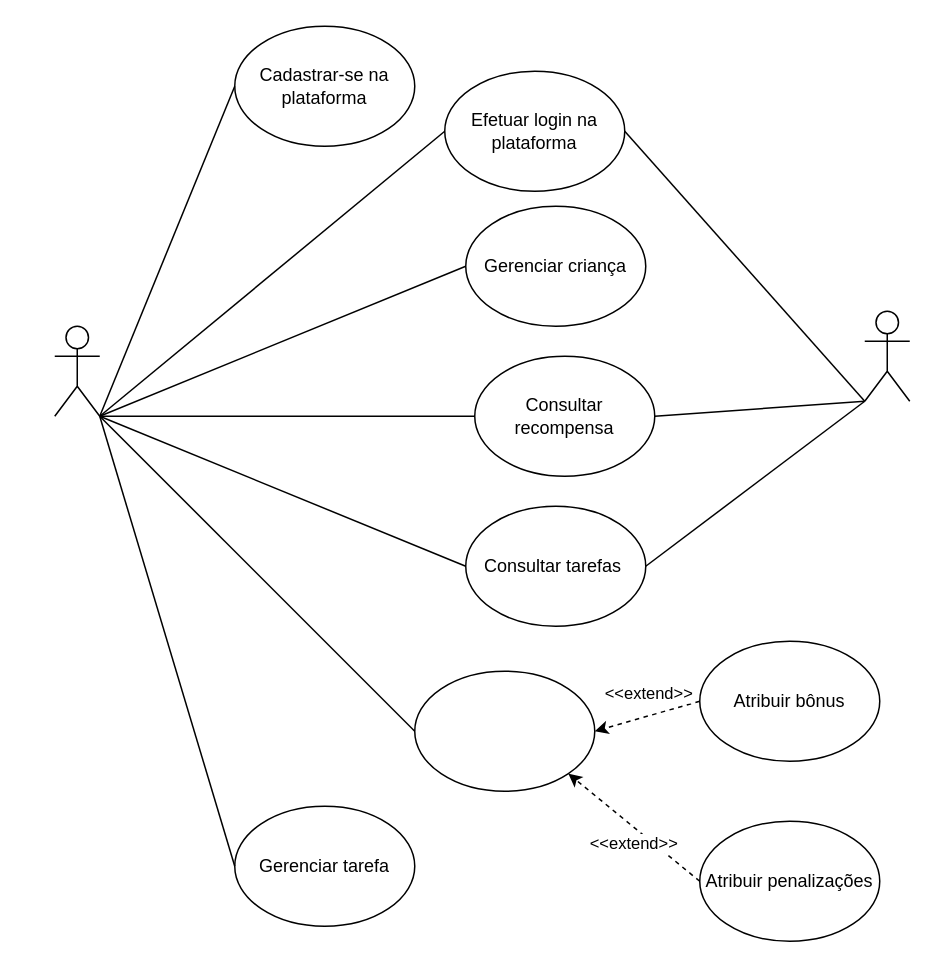
Some shapes in this 944 by 968 pixel diagram are drawn without their labels. The shapes that lost their labels are listed below. From the top down, each one's centre as x and y in pixels, then its label:
At (x=76, y=370): "Responsável".
At (x=886, y=355): "Criança".
At (x=504, y=730): "Gerenciar valor mensal total".
